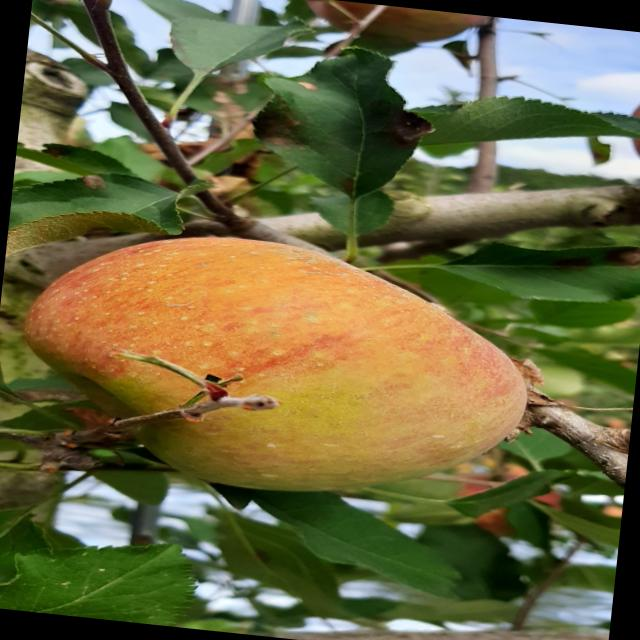fresh: (1, 209, 574, 530)
